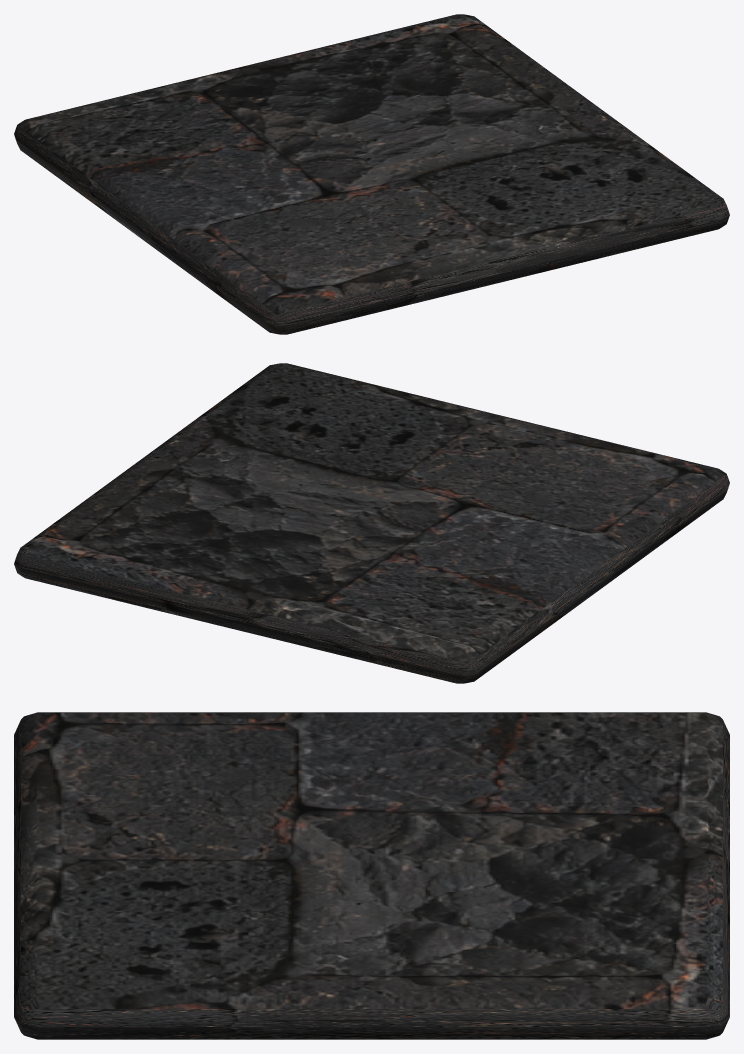
The model's file is w3_tile_normal.glb.
The picture shows the model from 3 angles, top to bottom: view 1: azimuth 30°, elevation 25°; view 2: azimuth 150°, elevation 25°; view 3: azimuth 270°, elevation 25°; orthographic projection. The views are drawn at different scales.
Visible parts, largest first — view 1: w3_tile_normal; view 2: w3_tile_normal; view 3: w3_tile_normal.
Boxes of the visible parts, x1,y1,x2,y2 form: w3_tile_normal: (14,14,729,334); w3_tile_normal: (14,363,729,683); w3_tile_normal: (14,712,729,1039).
Bounding box in the file's own units: 1.63 × 0.11 × 1.63.
Materials: 1 (1 with a texture image).
